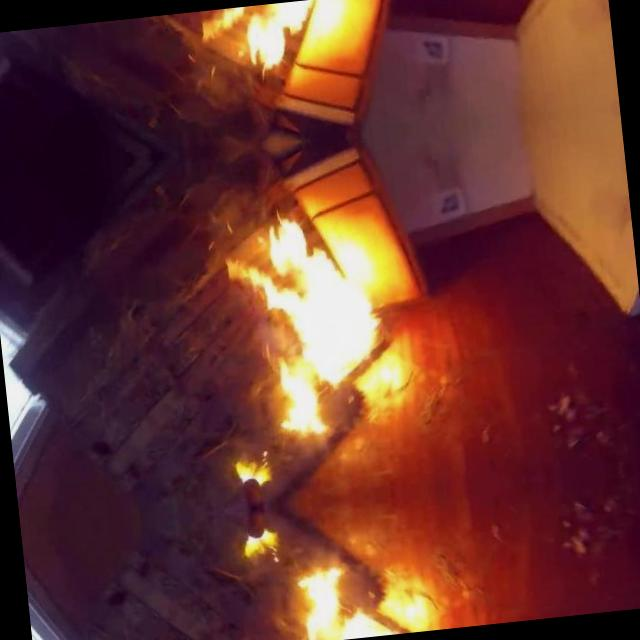fire: (198, 170, 420, 527)
